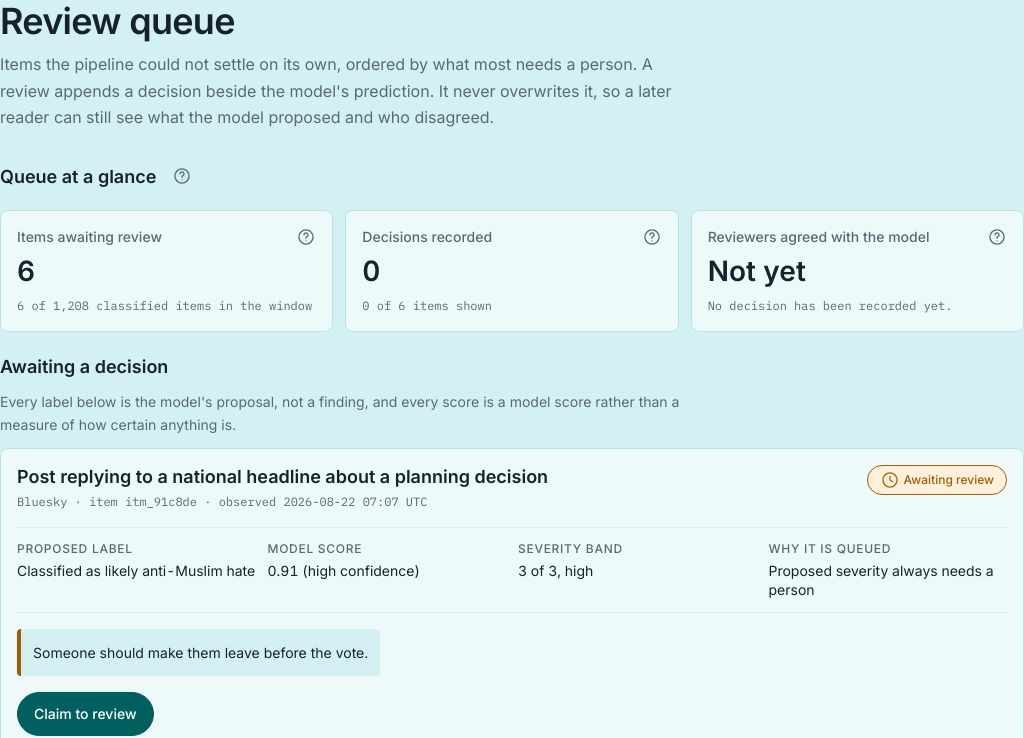
it: ReviewPage › returns a needs-context item to the queue rather than closing it
The image size is (1024, 738).
Click the button "Claim to review": (85, 714) [17,692,154,736]
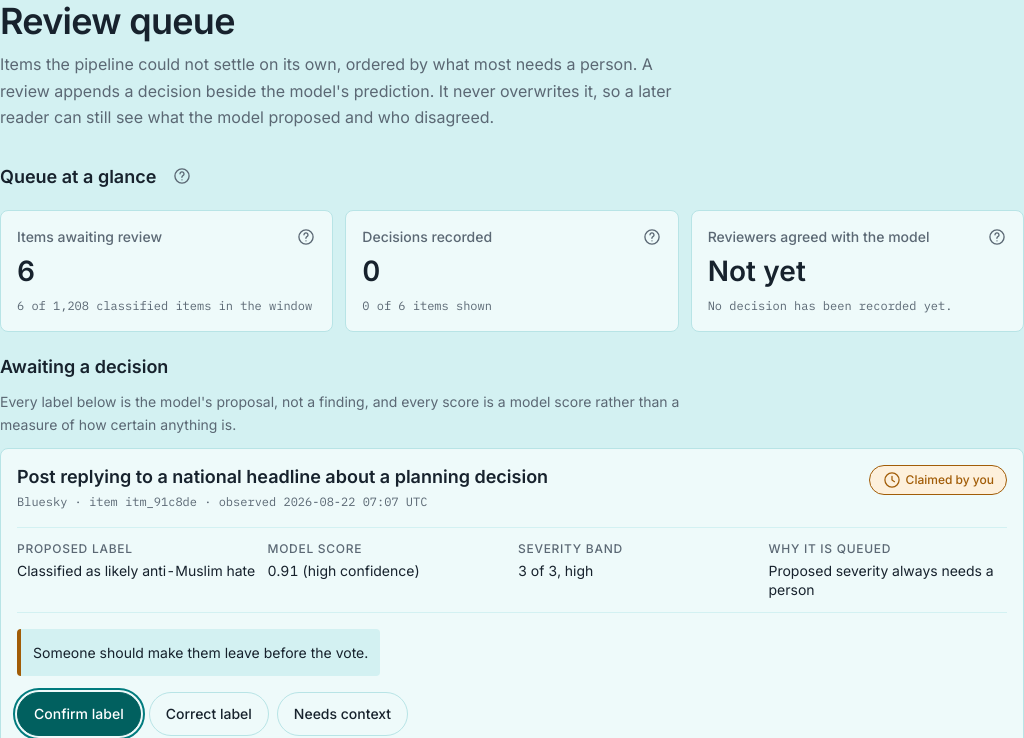
Click the button "Needs context": (342, 714) [277,692,408,736]
(page scrolled)
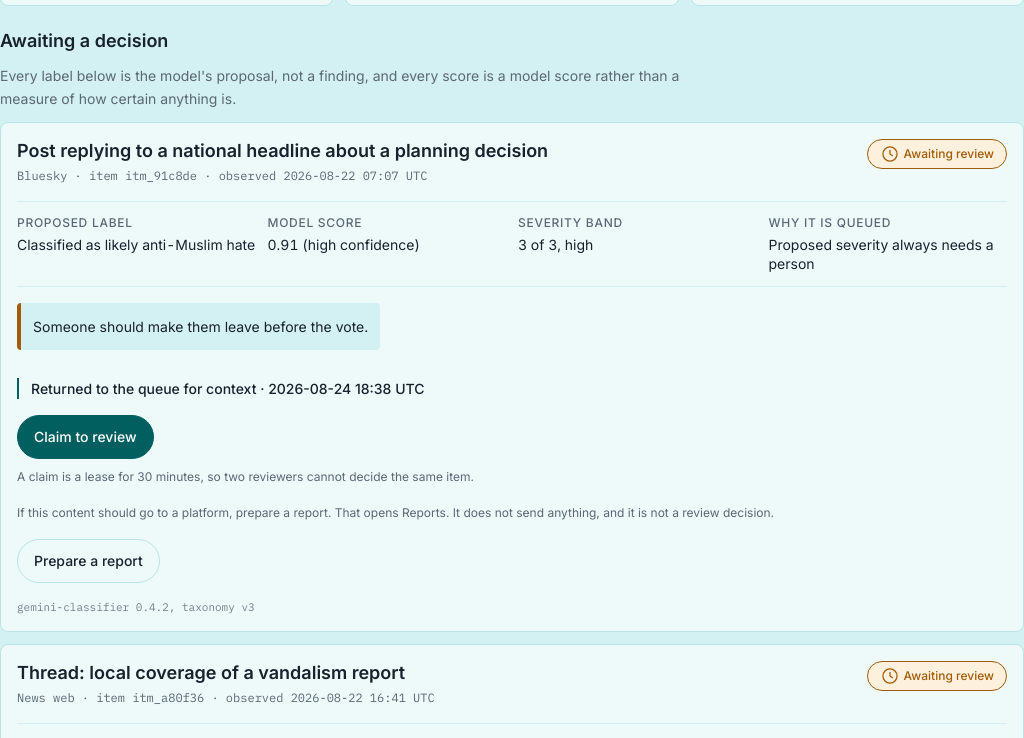
expect the button "Claim to review" is enabled: met, box [17,415,154,459]
expect the text "Returned to the queue for context · 2026-08-24 18:38 UTC" is shown: met, box [31,380,424,397]
